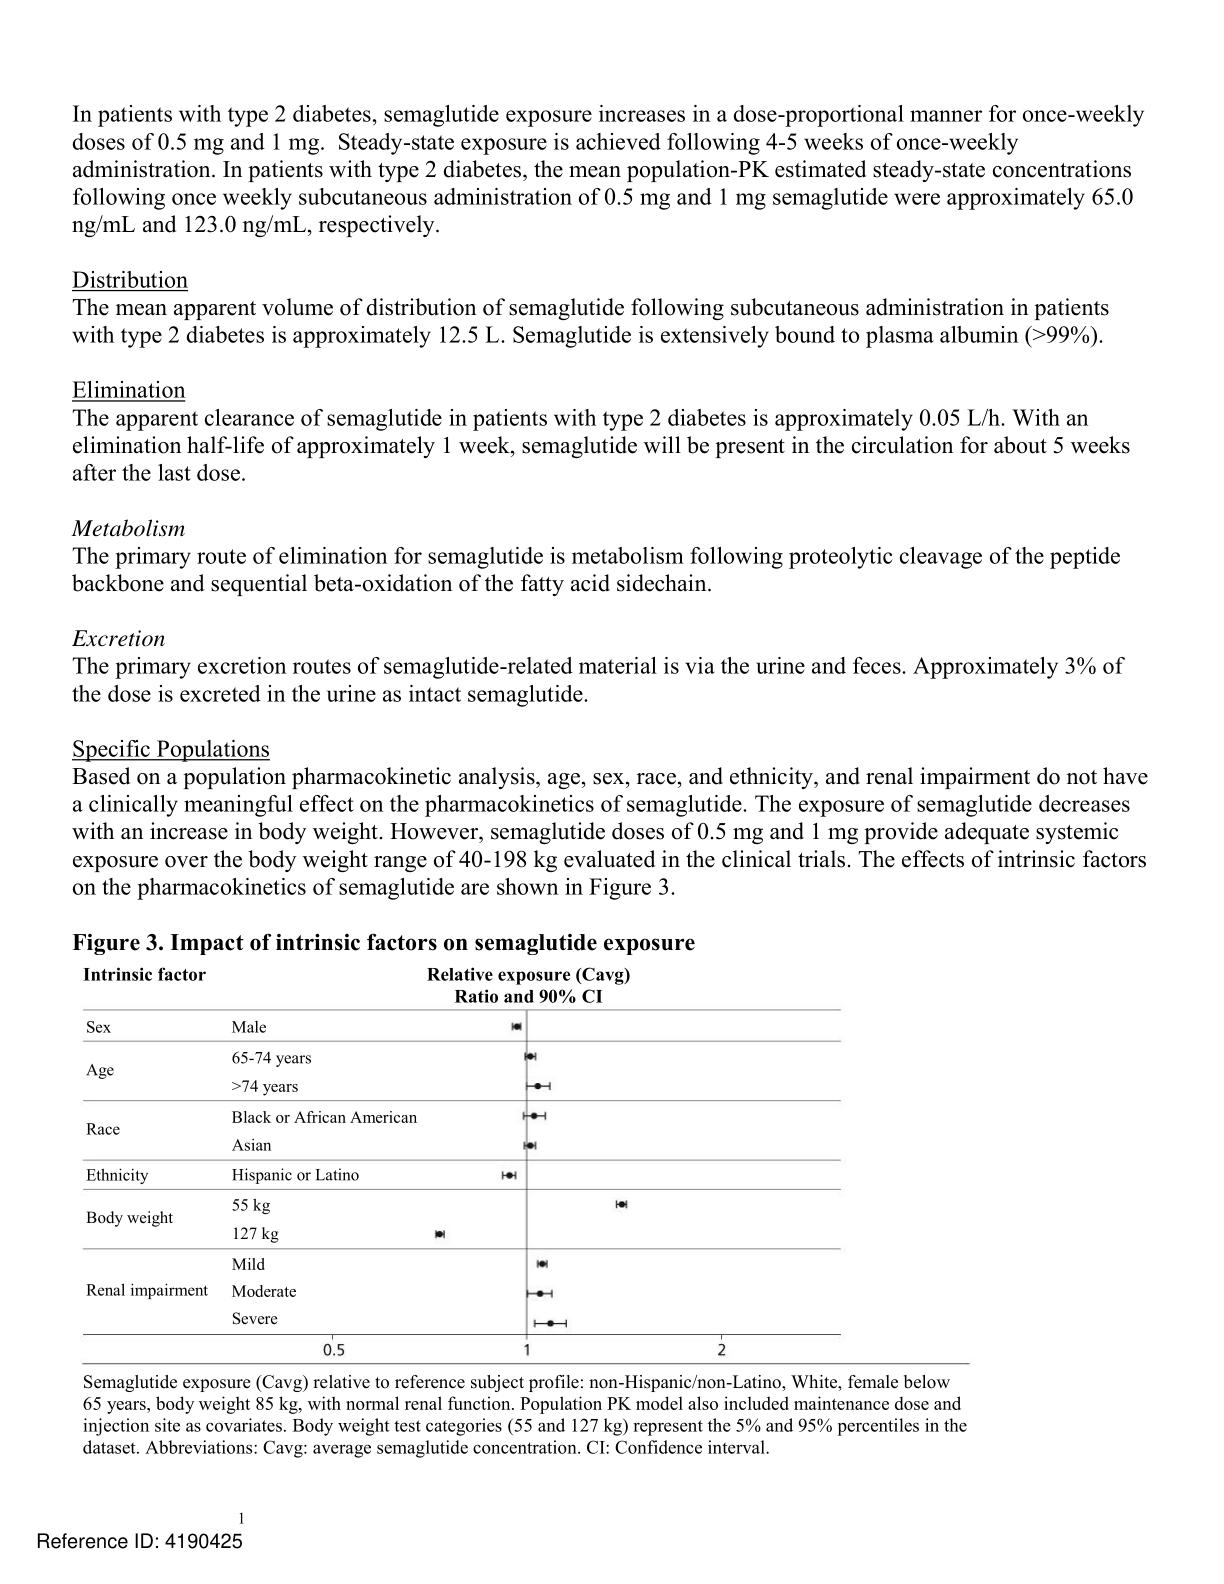partial_lined_merged_cells: (78, 960, 971, 1365)
